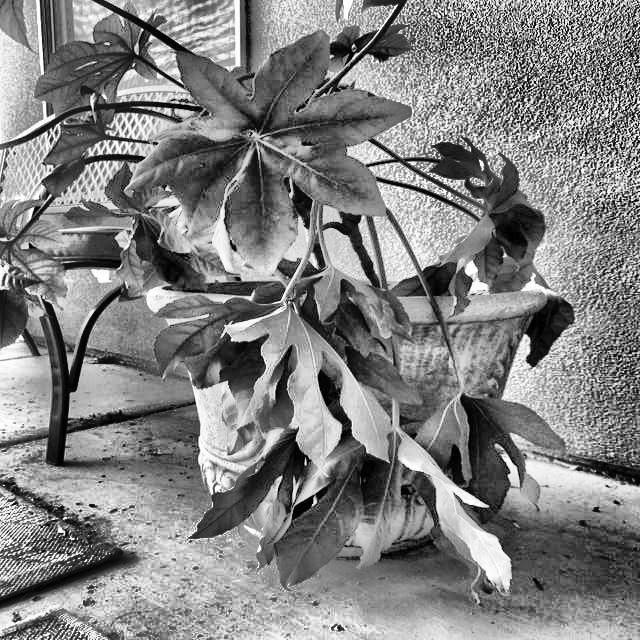plants: (0, 0, 589, 639), (240, 225, 516, 601)
